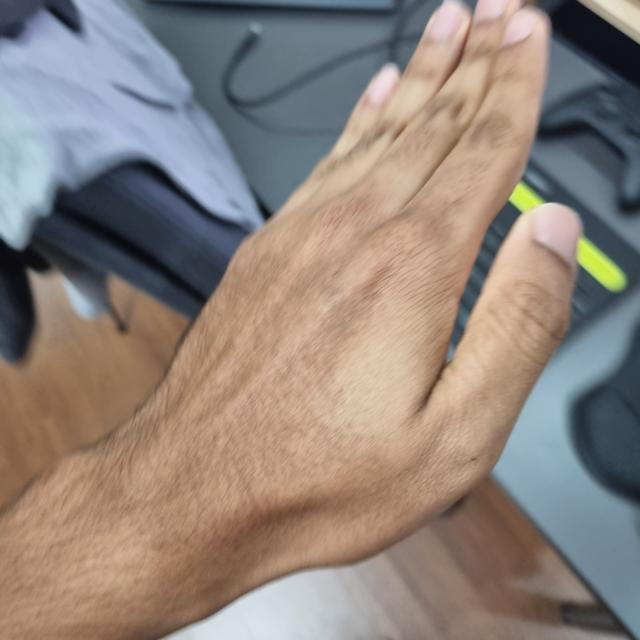Paper: (130, 2, 581, 579)
